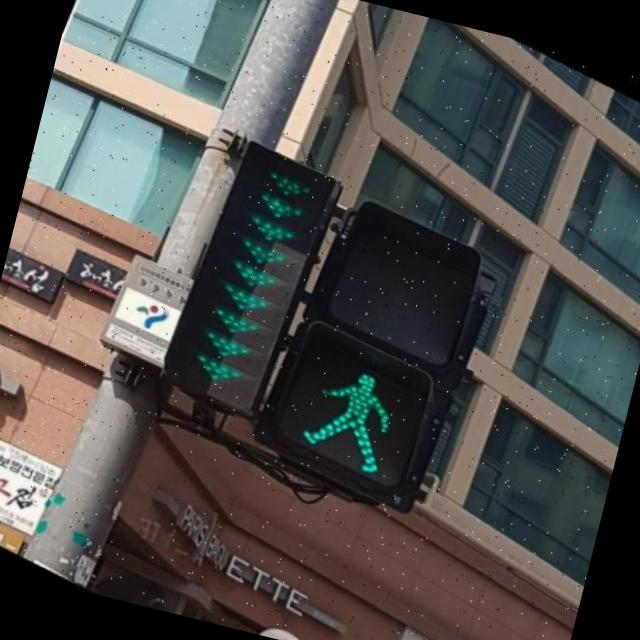green_light: (269, 328, 431, 491)
